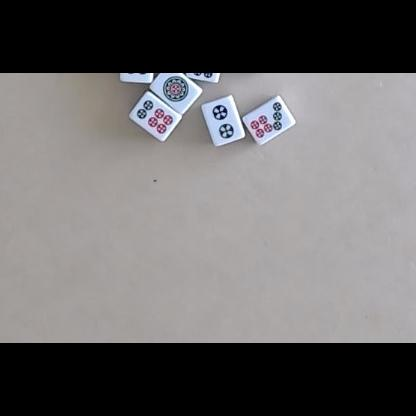1p: (162, 75, 190, 102)
2p: (212, 104, 235, 139)
4p: (125, 73, 149, 75)
6p: (136, 100, 173, 134)
7p: (250, 102, 282, 139)
8p: (192, 73, 218, 79)
